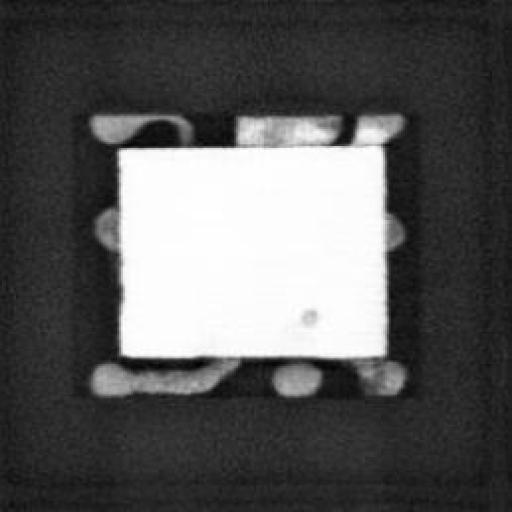DIE_INK: (296, 300, 322, 324)
